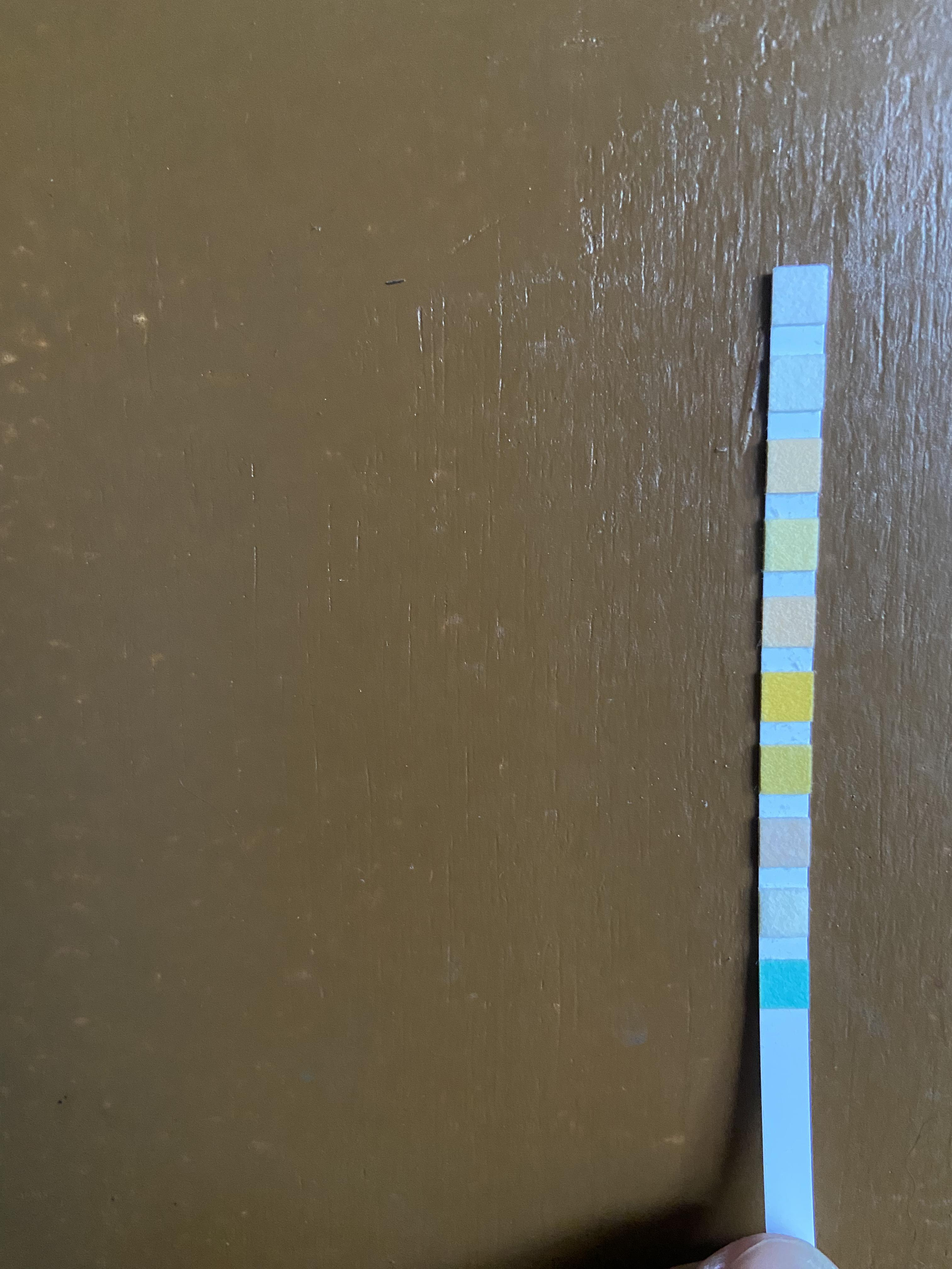Bilirubin: (762, 891, 806, 935)
Blood: (763, 675, 810, 720)
Glucose: (762, 960, 807, 1008)
Ketone: (762, 820, 809, 865)
Leukocytes: (774, 271, 825, 321)
Nitrite: (772, 357, 821, 410)
Protein: (768, 521, 816, 567)
SpGravity: (762, 748, 810, 792)
Urobilinogen: (770, 441, 819, 490)
pH: (764, 599, 814, 645)
strip: (759, 264, 827, 1218)
